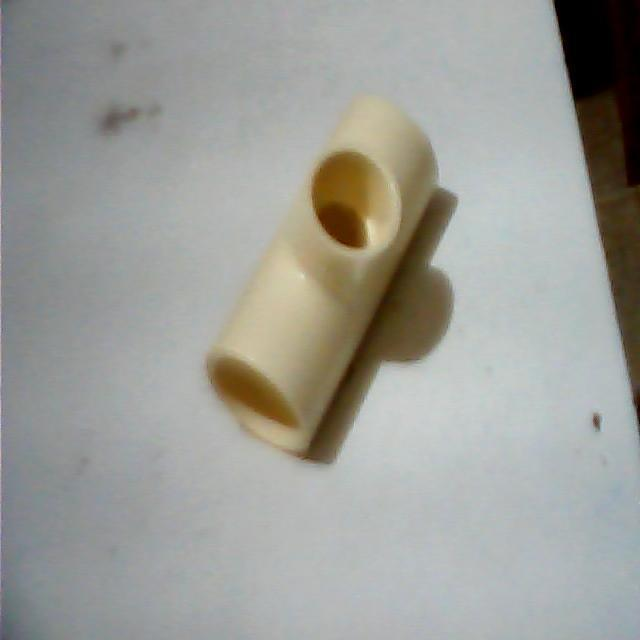T Joint: (205, 95, 438, 455)
